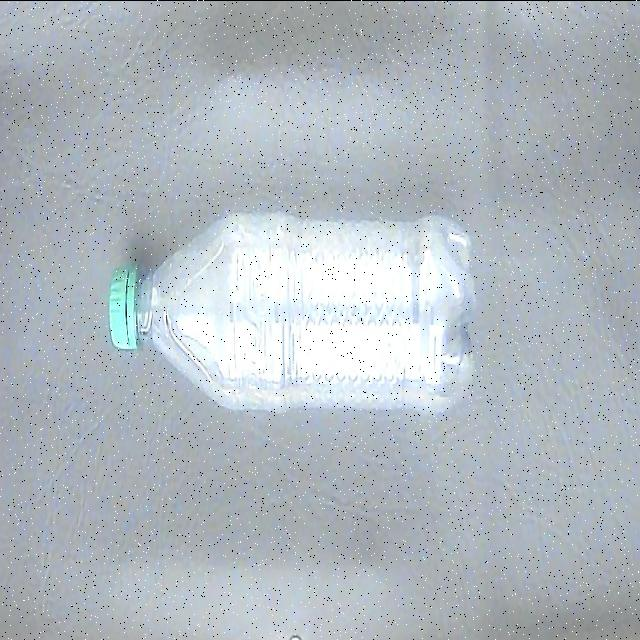plastic: (97, 174, 470, 430)
